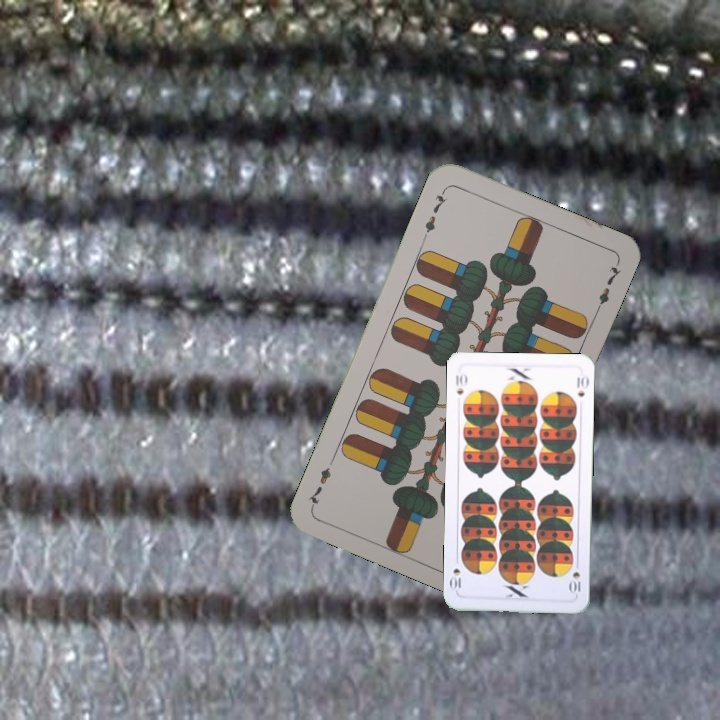E7: (419, 185, 451, 241)
S10: (567, 557, 583, 597), (451, 370, 469, 397)
